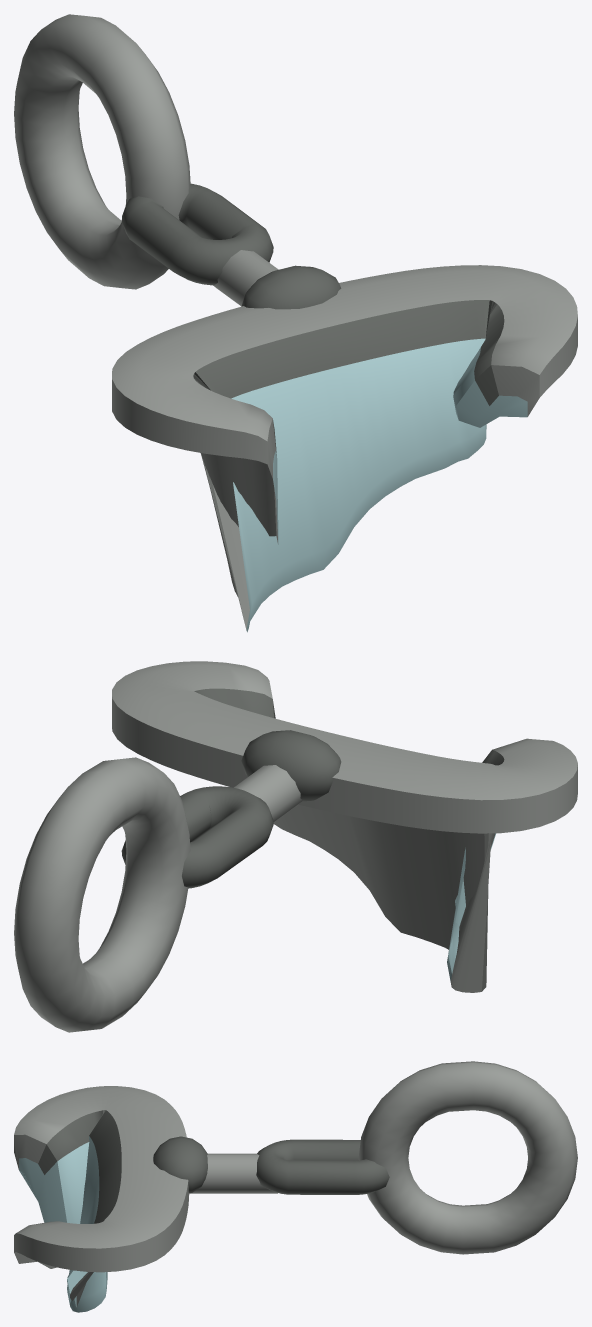
File: miners_tow_hook.glb
The picture shows the model from 3 angles, top to bottom: view 1: azimuth 30°, elevation 25°; view 2: azimuth 150°, elevation 25°; view 3: azimuth 270°, elevation 25°; orthographic projection. The views are drawn at different scales.
Visible parts, largest first — view 1: crescent.001, link1.001, link2.001, crown.001, shank.001; view 2: crescent.001, link1.001, link2.001, crown.001, shank.001; view 3: crescent.001, link1.001, link2.001, shank.001, crown.001.
Boxes of the visible parts, x1,y1,x2,y2 form: crescent.001: [112, 265, 577, 632]; link1.001: [14, 14, 190, 289]; link2.001: [121, 183, 273, 285]; crown.001: [241, 265, 341, 309]; shank.001: [213, 250, 278, 306]; crescent.001: [112, 661, 577, 992]; link1.001: [14, 757, 190, 1032]; link2.001: [121, 786, 273, 888]; crown.001: [241, 730, 341, 801]; shank.001: [234, 765, 302, 822]; crescent.001: [14, 1086, 189, 1312]; link1.001: [358, 1061, 577, 1254]; link2.001: [256, 1139, 389, 1194]; shank.001: [189, 1153, 277, 1193]; crown.001: [153, 1136, 207, 1193].
Size of the model in its own units: 11.1 by 9.28 by 16.3.
